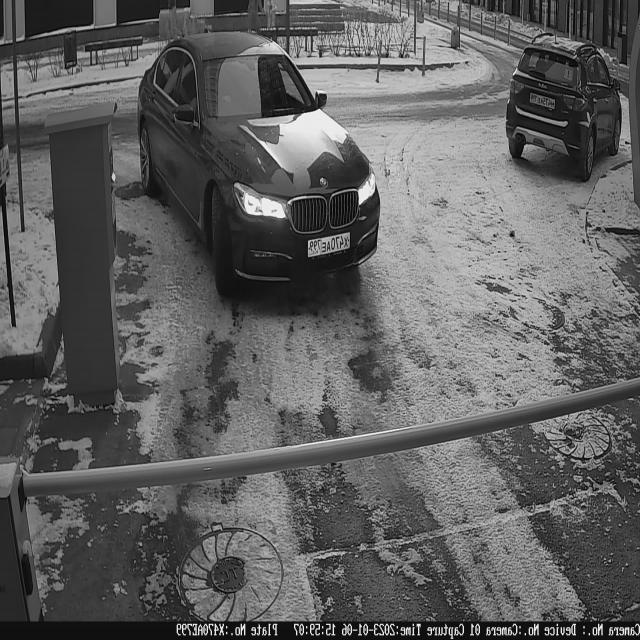car-plate-numbers: (307, 231, 355, 266)
